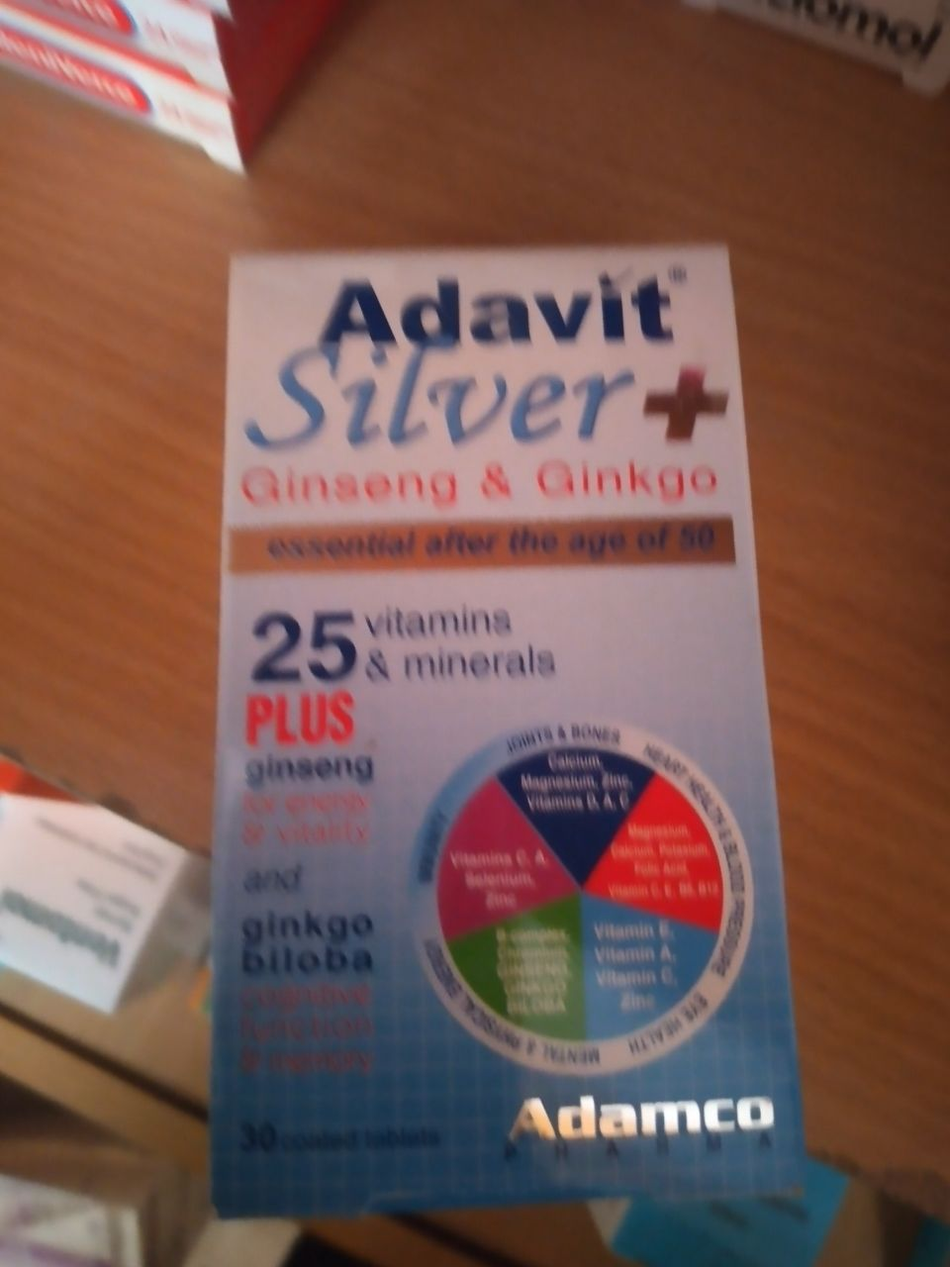Medicine: (185, 221, 811, 1227)
